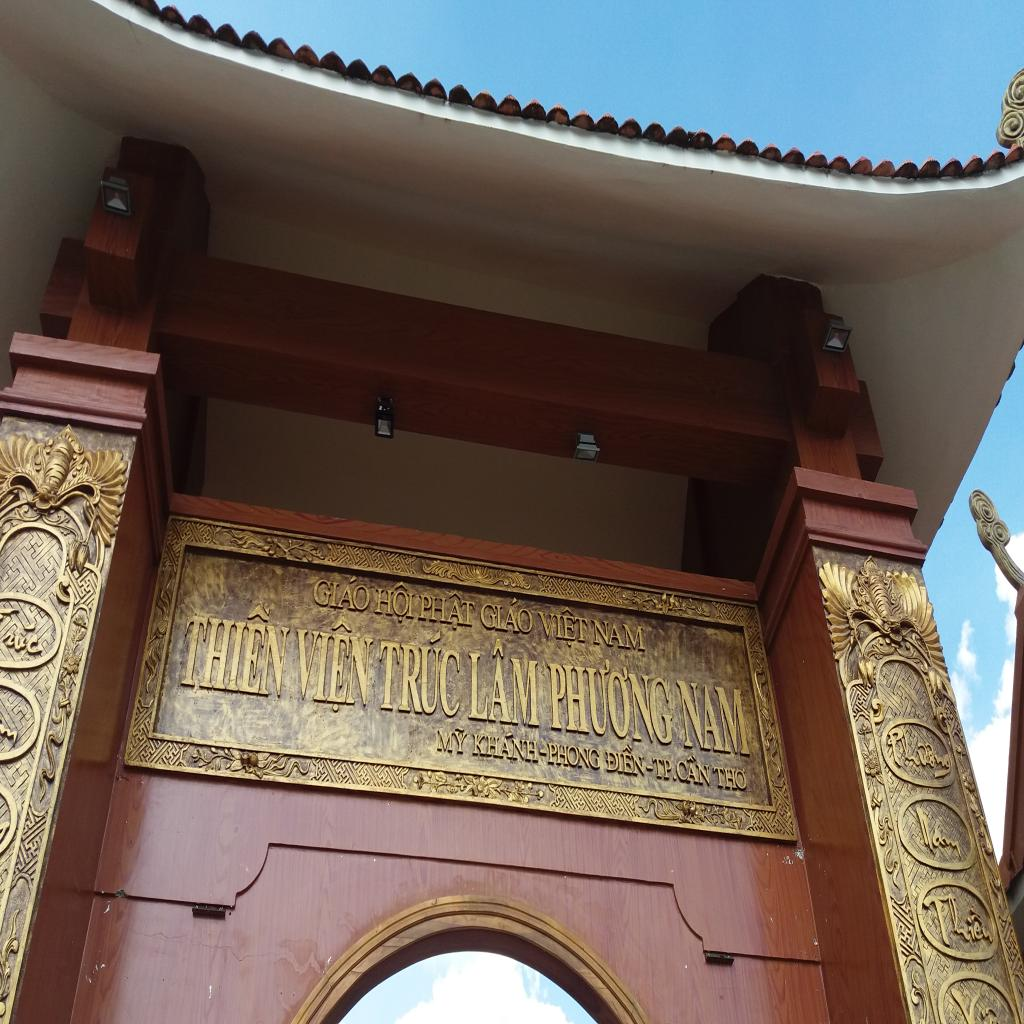text: (177, 590, 294, 702), (547, 650, 676, 747), (296, 608, 376, 718), (377, 622, 462, 718), (468, 634, 540, 728), (676, 680, 751, 758), (884, 725, 953, 781), (418, 584, 476, 634), (914, 804, 963, 862), (311, 568, 372, 614), (536, 600, 590, 650), (472, 725, 539, 763), (480, 591, 534, 636), (651, 747, 711, 786), (372, 574, 416, 626), (590, 616, 647, 652), (0, 617, 42, 658), (547, 741, 601, 771), (604, 739, 646, 776), (712, 763, 750, 792), (436, 723, 470, 754)
